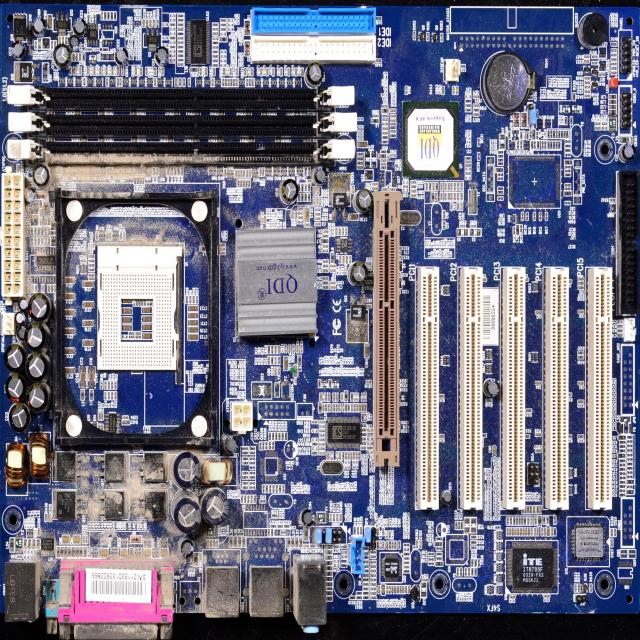Capacitor Jumper: (173, 489, 201, 536), (202, 486, 232, 526), (172, 448, 201, 489), (26, 352, 51, 383), (26, 324, 50, 354), (28, 381, 52, 411), (27, 293, 51, 321), (8, 402, 30, 432), (4, 342, 25, 373), (4, 373, 28, 400), (306, 60, 326, 87), (280, 179, 300, 204), (349, 260, 368, 286), (354, 187, 373, 212), (53, 43, 71, 68), (32, 163, 50, 188), (223, 434, 240, 456), (10, 40, 27, 60), (154, 46, 170, 66), (114, 45, 129, 66), (620, 144, 636, 162), (180, 538, 194, 558), (72, 18, 87, 36), (300, 508, 314, 527), (32, 16, 45, 36), (314, 166, 328, 184), (440, 490, 452, 506), (16, 324, 27, 341), (24, 188, 36, 202), (68, 34, 79, 49), (15, 312, 26, 324), (18, 297, 28, 310), (47, 14, 53, 29), (304, 208, 310, 222), (348, 213, 359, 220), (364, 343, 369, 358), (358, 142, 368, 148), (492, 446, 497, 456), (381, 584, 385, 595), (170, 57, 177, 63), (352, 460, 356, 470), (442, 210, 446, 220), (627, 448, 633, 454), (170, 48, 176, 54), (613, 528, 617, 537), (434, 192, 438, 201), (169, 31, 176, 36), (617, 333, 624, 338), (169, 40, 176, 45), (220, 49, 227, 54), (16, 554, 23, 559), (428, 557, 435, 562), (329, 285, 336, 290), (534, 381, 542, 385), (626, 444, 634, 448), (85, 48, 93, 52), (48, 514, 52, 522), (100, 12, 104, 20), (627, 466, 633, 471), (547, 526, 550, 536), (584, 89, 590, 94), (474, 94, 480, 99), (473, 112, 479, 117), (432, 182, 435, 192), (460, 202, 463, 212), (450, 202, 453, 212), (617, 320, 624, 324), (311, 438, 318, 442), (162, 43, 169, 47), (626, 470, 633, 474), (428, 552, 435, 556), (220, 54, 227, 58), (220, 59, 227, 63), (584, 80, 591, 84), (382, 104, 389, 108), (389, 109, 396, 113), (465, 167, 472, 171), (410, 193, 417, 197), (162, 23, 169, 27), (227, 23, 234, 27), (322, 268, 329, 272), (347, 461, 350, 470), (543, 527, 546, 536), (419, 540, 422, 549), (456, 86, 459, 95), (452, 86, 455, 95), (450, 192, 453, 201), (162, 36, 168, 40), (578, 381, 584, 385), (364, 392, 367, 400), (356, 393, 359, 401), (361, 392, 364, 400), (58, 36, 61, 44), (122, 416, 128, 420), (312, 429, 318, 433), (626, 440, 634, 443), (259, 442, 262, 450), (627, 462, 633, 466), (344, 461, 347, 469), (627, 485, 633, 489), (329, 514, 332, 522), (339, 514, 342, 522), (509, 528, 512, 536), (514, 528, 517, 536), (522, 528, 525, 536), (303, 544, 309, 548), (341, 550, 347, 554), (341, 555, 347, 559), (428, 562, 434, 566), (422, 578, 428, 582), (402, 586, 405, 594), (386, 586, 389, 594), (391, 586, 394, 594), (544, 594, 550, 598), (509, 595, 515, 599), (584, 60, 590, 64), (170, 14, 176, 18), (465, 163, 471, 167), (402, 180, 408, 184), (313, 187, 316, 195), (313, 197, 316, 205), (170, 18, 176, 22), (314, 222, 322, 225), (149, 20, 152, 28), (349, 256, 352, 264), (339, 256, 342, 264), (330, 264, 336, 268), (330, 268, 336, 272), (578, 277, 584, 281), (366, 280, 372, 284), (170, 27, 176, 31), (578, 310, 584, 314), (536, 311, 542, 315), (525, 528, 528, 535), (394, 586, 397, 593), (220, 64, 227, 67), (322, 230, 329, 233), (170, 54, 175, 58), (334, 559, 339, 563), (404, 565, 409, 569), (474, 104, 479, 108), (323, 248, 328, 252), (220, 32, 226, 35), (356, 460, 358, 469), (627, 475, 633, 478), (458, 521, 460, 530), (377, 527, 379, 536), (38, 527, 40, 536), (397, 585, 399, 594), (400, 585, 402, 594), (465, 95, 471, 98), (382, 123, 388, 126), (382, 127, 388, 130), (465, 176, 471, 179), (372, 182, 378, 185), (457, 202, 459, 211), (443, 221, 445, 230), (143, 19, 145, 28), (322, 244, 328, 247), (228, 28, 234, 31), (102, 412, 104, 420), (266, 442, 268, 450), (512, 528, 514, 536), (518, 528, 520, 536), (536, 528, 538, 536), (531, 528, 533, 536), (611, 538, 613, 546), (382, 541, 384, 549), (405, 586, 407, 594), (408, 586, 410, 594), (146, 19, 148, 27), (334, 564, 339, 567), (411, 180, 416, 183), (403, 189, 408, 192), (411, 190, 416, 193), (539, 506, 541, 513), (534, 506, 536, 513), (382, 528, 384, 535), (378, 586, 380, 593), (389, 586, 391, 593), (631, 137, 633, 144), (354, 394, 356, 400)
Connector: (8, 134, 359, 166), (7, 108, 362, 135), (371, 190, 404, 470), (7, 84, 356, 109), (544, 265, 572, 511), (500, 268, 528, 510), (414, 264, 441, 509), (458, 266, 484, 510), (587, 265, 613, 506), (252, 6, 376, 34), (252, 36, 376, 60), (482, 377, 500, 398)
IC: (401, 100, 461, 179), (505, 539, 558, 595), (568, 517, 610, 567), (186, 19, 211, 66), (326, 418, 361, 449), (381, 551, 403, 582), (34, 248, 57, 274), (40, 532, 56, 557), (104, 413, 121, 435), (336, 236, 354, 253), (86, 24, 98, 46)
Resistor Jumper: (412, 31, 417, 41), (38, 38, 42, 49), (375, 58, 382, 64), (267, 356, 271, 366), (426, 32, 430, 42), (440, 32, 444, 42), (122, 420, 130, 425), (268, 431, 272, 441), (34, 40, 38, 50), (212, 54, 220, 59), (182, 77, 186, 87), (441, 85, 445, 95), (460, 182, 464, 192), (156, 18, 160, 28), (212, 22, 220, 27), (114, 381, 118, 390), (284, 432, 288, 441), (44, 513, 48, 522), (474, 567, 478, 576), (470, 567, 474, 576), (178, 77, 182, 86), (248, 169, 252, 178), (428, 182, 432, 191), (185, 295, 189, 304), (525, 408, 532, 413), (619, 449, 626, 454), (619, 467, 626, 472), (470, 540, 477, 545), (436, 551, 443, 556), (212, 63, 219, 68), (584, 94, 591, 99), (465, 171, 472, 176), (220, 22, 227, 27), (322, 285, 329, 290), (318, 429, 326, 433), (366, 446, 374, 450), (248, 451, 256, 455), (626, 453, 634, 457), (82, 536, 86, 544), (211, 59, 219, 63), (464, 108, 472, 112), (239, 180, 243, 188), (453, 182, 457, 190), (456, 193, 460, 201), (342, 256, 346, 264), (322, 264, 330, 268), (111, 380, 114, 390), (104, 390, 107, 400), (486, 398, 492, 403), (250, 446, 256, 451), (242, 485, 248, 490), (534, 516, 537, 526), (360, 526, 363, 536), (436, 536, 442, 541), (471, 545, 477, 550), (341, 563, 347, 568), (570, 115, 573, 125), (376, 16, 382, 21), (440, 182, 443, 192), (456, 182, 459, 192), (440, 192, 443, 202), (453, 192, 456, 202), (178, 27, 184, 32), (212, 41, 219, 45), (360, 428, 367, 432), (535, 433, 542, 437), (619, 440, 626, 444), (619, 444, 626, 448), (360, 446, 367, 450), (311, 447, 318, 451), (242, 451, 249, 455), (619, 458, 626, 462), (249, 475, 256, 479), (242, 481, 249, 485), (177, 49, 184, 53), (332, 514, 336, 521), (212, 50, 219, 54), (470, 535, 477, 539), (403, 543, 410, 547), (333, 545, 340, 549), (403, 570, 410, 574), (349, 596, 356, 600), (591, 61, 598, 65), (584, 85, 591, 89), (465, 99, 472, 103), (177, 14, 184, 18), (258, 168, 262, 175), (402, 185, 409, 189), (220, 18, 227, 22), (177, 18, 184, 22), (459, 224, 466, 228), (178, 23, 185, 27), (578, 282, 585, 286), (220, 27, 227, 31), (271, 356, 274, 365), (274, 356, 277, 365), (100, 381, 103, 390), (338, 403, 341, 412), (272, 432, 275, 441), (336, 513, 339, 522), (455, 521, 458, 530), (610, 528, 613, 537), (416, 540, 419, 549), (405, 86, 408, 95), (107, 12, 110, 21), (242, 169, 245, 178), (444, 192, 447, 201), (192, 295, 195, 304), (292, 344, 295, 352), (274, 345, 277, 353), (578, 356, 584, 360), (111, 392, 114, 400), (325, 393, 328, 401), (61, 36, 64, 44), (578, 400, 584, 404), (65, 36, 68, 44), (364, 404, 367, 412), (333, 404, 336, 412), (348, 404, 351, 412), (327, 404, 330, 412), (322, 404, 325, 412), (98, 412, 101, 420), (319, 420, 325, 424), (318, 425, 326, 428), (320, 433, 326, 437), (275, 432, 278, 440), (281, 432, 284, 440), (525, 434, 531, 438), (578, 435, 584, 439), (319, 438, 325, 442), (611, 42, 617, 46), (319, 442, 325, 446), (312, 452, 318, 456), (242, 461, 248, 465), (242, 471, 248, 475), (619, 493, 625, 497), (527, 505, 530, 513), (529, 506, 532, 514), (272, 514, 278, 518), (513, 517, 516, 525), (506, 518, 509, 526), (277, 524, 283, 528), (494, 526, 500, 530), (353, 527, 356, 535), (519, 528, 522, 536), (551, 528, 554, 536), (316, 544, 322, 548), (611, 54, 617, 58), (436, 556, 442, 560), (341, 559, 347, 563), (471, 559, 474, 567), (592, 55, 598, 59), (82, 53, 85, 61), (574, 584, 577, 592), (356, 592, 362, 596), (178, 58, 184, 62), (611, 62, 617, 66), (610, 67, 618, 70), (599, 73, 605, 77), (584, 76, 590, 80), (602, 122, 608, 126), (465, 156, 471, 160), (464, 160, 472, 163), (242, 180, 245, 188), (245, 180, 248, 188), (447, 182, 450, 190), (444, 182, 447, 190), (450, 182, 453, 190), (447, 192, 450, 200), (460, 193, 463, 201), (315, 208, 321, 212), (578, 286, 584, 290), (189, 296, 192, 304), (104, 382, 107, 389), (328, 393, 331, 400), (360, 424, 367, 427), (626, 458, 633, 461), (619, 481, 626, 484), (521, 517, 524, 524), (177, 54, 184, 57), (465, 104, 472, 107), (470, 225, 477, 228), (322, 260, 329, 263), (510, 516, 512, 526), (341, 545, 346, 549), (404, 552, 409, 556), (404, 561, 409, 565), (426, 182, 428, 192), (153, 18, 155, 28), (578, 351, 584, 354), (278, 356, 280, 365), (108, 391, 110, 400), (336, 403, 338, 412), (627, 436, 633, 439), (242, 457, 248, 460), (178, 46, 184, 49), (619, 485, 625, 488), (611, 49, 617, 52), (531, 516, 533, 525), (527, 517, 529, 526), (461, 521, 463, 530), (284, 525, 290, 528), (270, 525, 276, 528), (554, 527, 556, 536), (534, 527, 536, 536), (310, 544, 316, 547), (584, 55, 590, 58), (79, 52, 81, 61), (610, 58, 616, 61), (356, 596, 362, 599), (442, 86, 444, 95), (573, 92, 575, 101), (565, 116, 567, 125), (595, 122, 601, 125), (104, 11, 106, 20), (114, 11, 116, 20), (111, 11, 113, 20), (246, 169, 248, 178), (238, 179, 240, 188), (248, 180, 250, 189), (436, 182, 438, 191), (315, 213, 321, 216), (346, 255, 348, 264), (196, 295, 198, 304), (268, 346, 270, 354), (108, 381, 110, 389), (115, 392, 117, 400), (333, 393, 335, 401), (362, 404, 364, 412), (325, 404, 327, 412), (345, 404, 347, 412), (354, 404, 356, 412), (279, 432, 281, 440), (519, 517, 521, 525), (524, 517, 526, 525), (516, 517, 518, 525), (357, 527, 359, 535), (389, 531, 391, 539), (475, 559, 477, 567), (578, 584, 580, 592), (590, 584, 592, 592), (262, 168, 264, 176), (240, 170, 242, 178), (410, 186, 418, 188), (404, 548, 409, 551), (404, 557, 409, 560), (474, 108, 479, 111), (323, 281, 328, 284), (336, 393, 338, 400), (357, 404, 359, 411), (536, 506, 538, 513), (528, 528, 530, 535), (319, 448, 325, 450), (319, 452, 325, 454), (370, 588, 376, 590), (611, 72, 617, 74), (361, 433, 366, 435), (361, 442, 366, 444)
Transistor: (94, 489, 132, 522), (93, 450, 130, 482), (132, 451, 168, 483), (52, 489, 88, 521), (58, 450, 90, 480), (139, 490, 167, 520), (349, 294, 367, 322), (14, 62, 38, 82), (332, 191, 347, 221), (144, 28, 160, 52), (55, 11, 70, 34), (598, 61, 607, 71), (599, 47, 607, 57), (364, 170, 372, 180), (43, 37, 50, 48), (592, 67, 598, 78), (418, 32, 424, 42), (592, 80, 598, 90), (432, 33, 438, 42), (584, 66, 590, 75)
